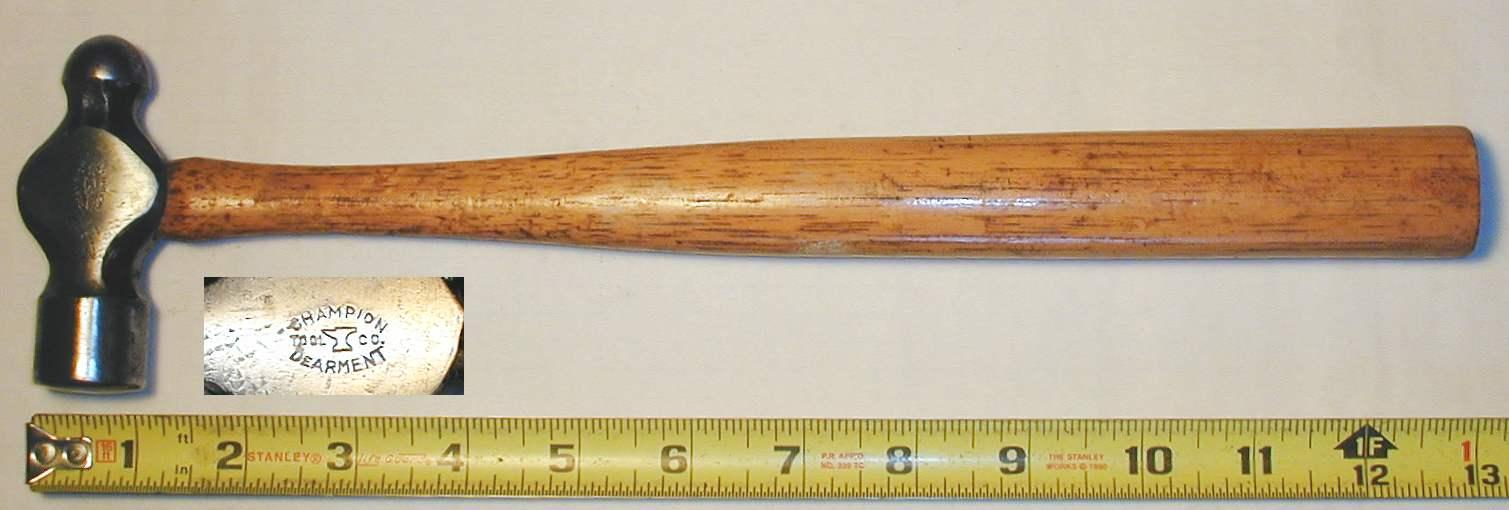hammer: (10, 28, 1484, 398)
